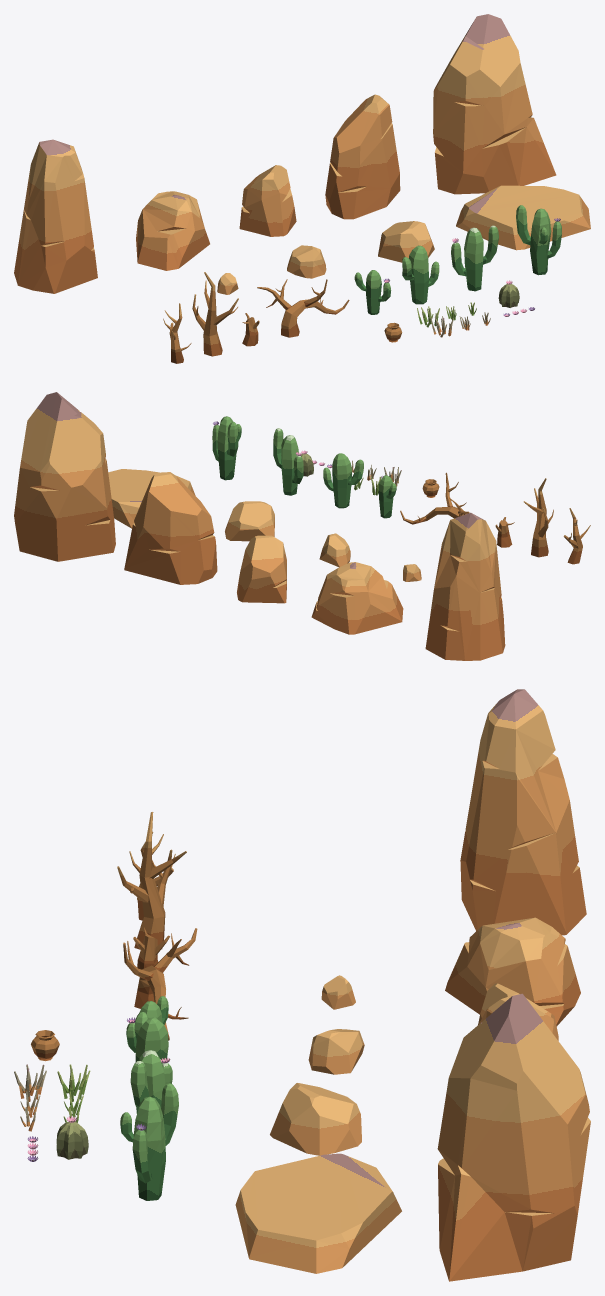
File: Rock 04.fbx
3 renders of one model, top to bottom at view 1: azimuth 30°, elevation 25°; view 2: azimuth 150°, elevation 25°; view 3: azimuth 270°, elevation 25°, orthographic. The views are drawn at different scales.
Bounding box in the file's own units: 18.85 × 5.64 × 11.59.
1 material, 1 textured.
